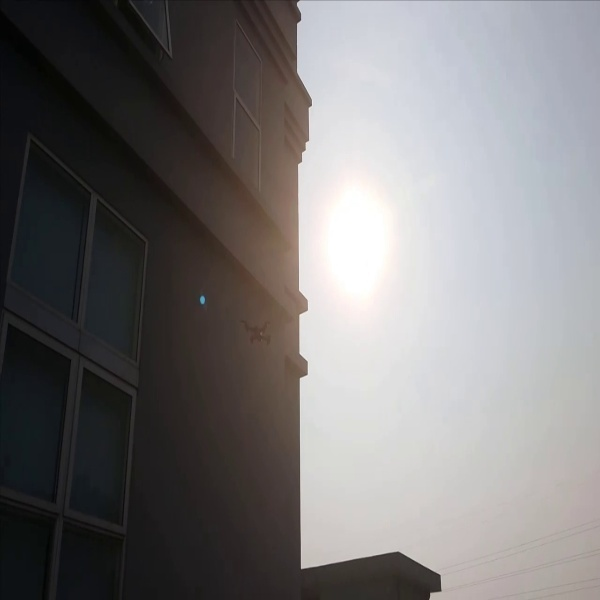drone: (238, 310, 280, 349)
